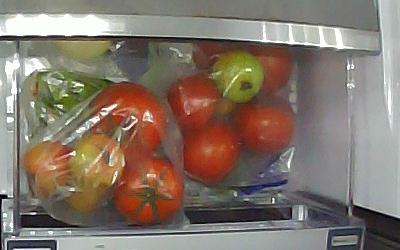tomato_vinyl: (90, 82, 166, 154), (114, 155, 185, 225), (174, 118, 239, 188), (231, 95, 297, 151), (212, 50, 265, 104), (25, 141, 75, 198), (168, 73, 219, 128), (75, 133, 125, 187), (239, 47, 292, 93), (63, 180, 111, 215)
